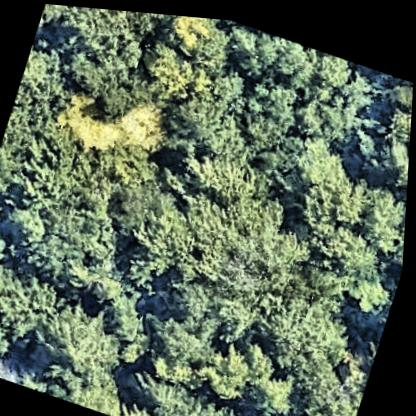tree-top: (284, 139, 411, 272), (118, 171, 236, 299), (45, 67, 176, 181), (24, 161, 128, 296), (252, 100, 365, 216), (252, 268, 364, 385), (0, 39, 73, 203), (26, 284, 131, 388), (167, 50, 252, 167), (284, 50, 381, 152), (229, 54, 316, 165), (195, 314, 287, 411), (53, 14, 142, 107), (136, 27, 224, 118), (40, 341, 136, 416), (0, 254, 65, 363), (295, 334, 377, 416), (213, 218, 293, 299), (178, 132, 262, 207), (99, 167, 181, 243), (137, 306, 213, 385), (221, 16, 313, 81), (71, 5, 168, 56), (161, 261, 232, 329), (209, 279, 269, 350), (128, 360, 203, 416), (0, 193, 52, 256), (157, 11, 220, 62), (257, 356, 308, 416), (373, 86, 413, 157), (177, 387, 269, 416), (36, 3, 95, 46), (265, 406, 342, 416)
